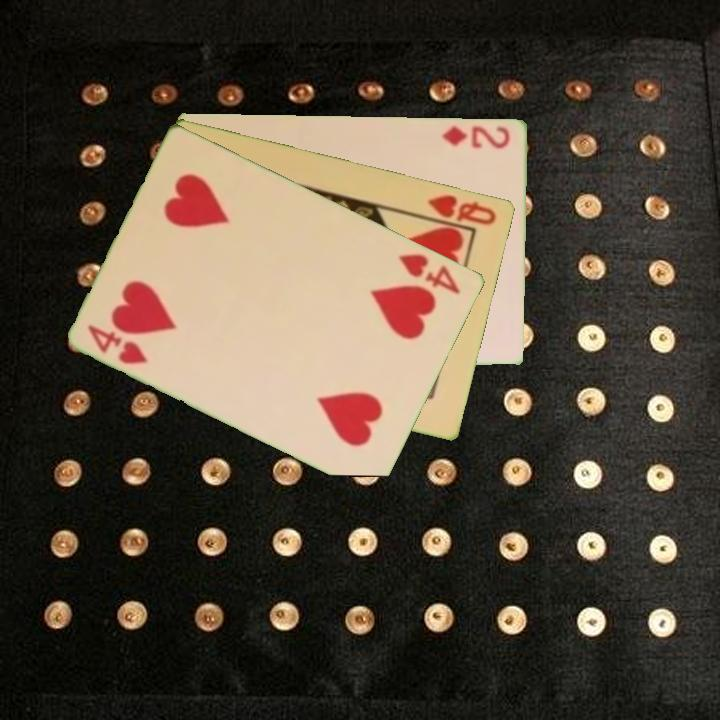2d: (440, 122, 513, 152)
4h: (396, 250, 464, 297), (84, 320, 152, 367)
Qh: (417, 190, 500, 232)
